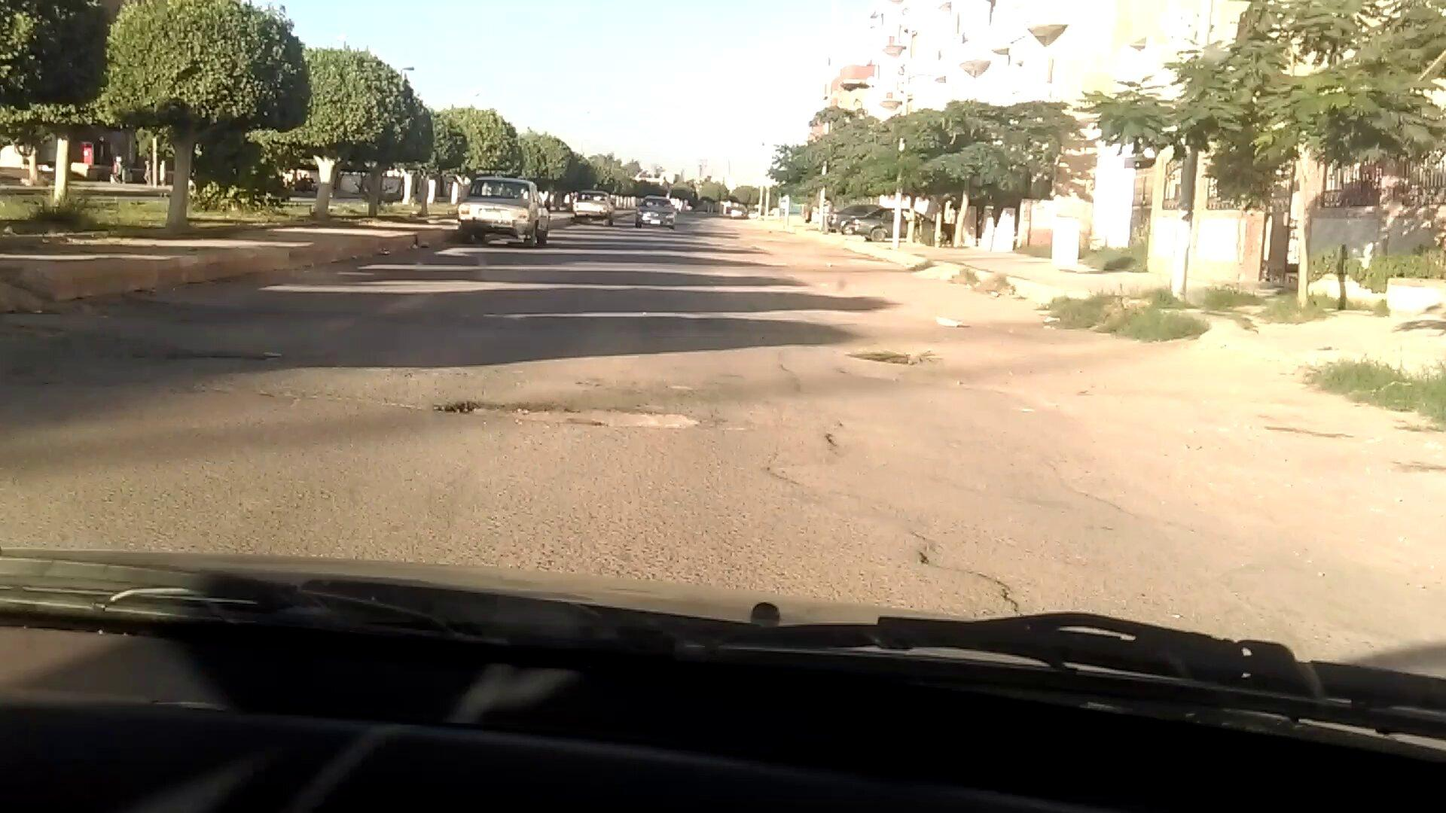Pothole: (437, 390, 712, 444), (857, 331, 958, 399), (168, 337, 286, 375)
